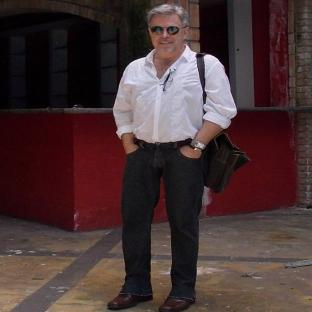Human: (107, 4, 236, 312)
